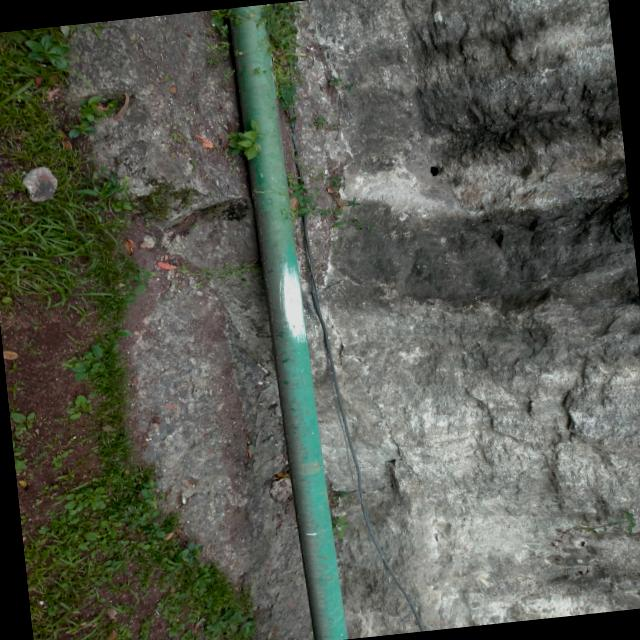gas: (229, 4, 344, 640)
